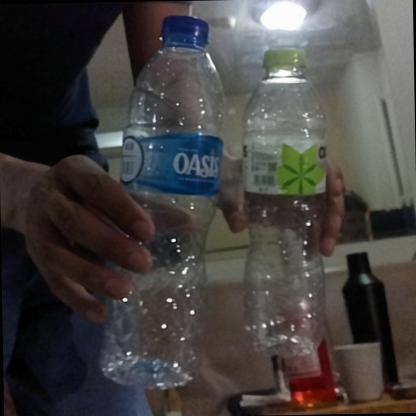plastic_bottles: (93, 13, 229, 395), (235, 45, 326, 358)
